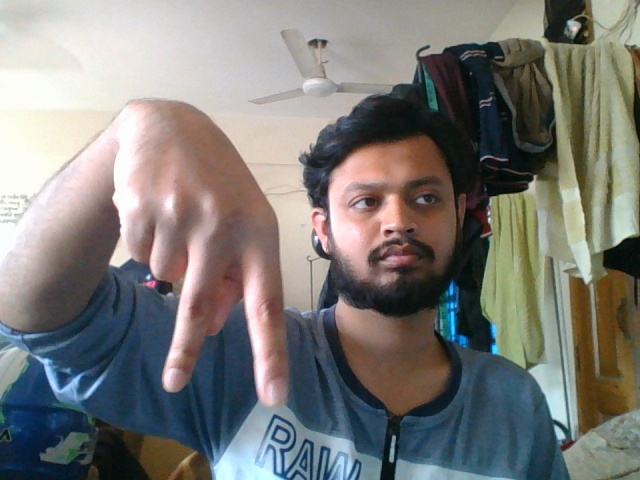pa: (113, 100, 304, 416)
